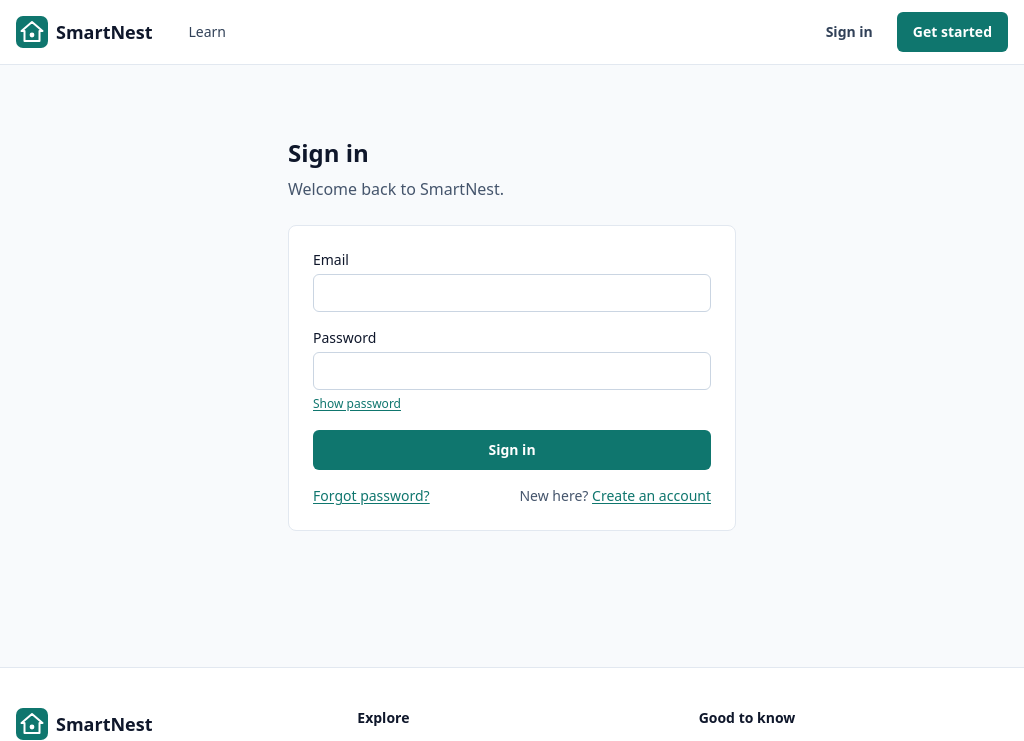
Test: sign in › shows a clear error for wrong credentials and does not store a session
Type "asha@example.com" into the field labelled "Email" at [512, 293], box [313,274,711,312]
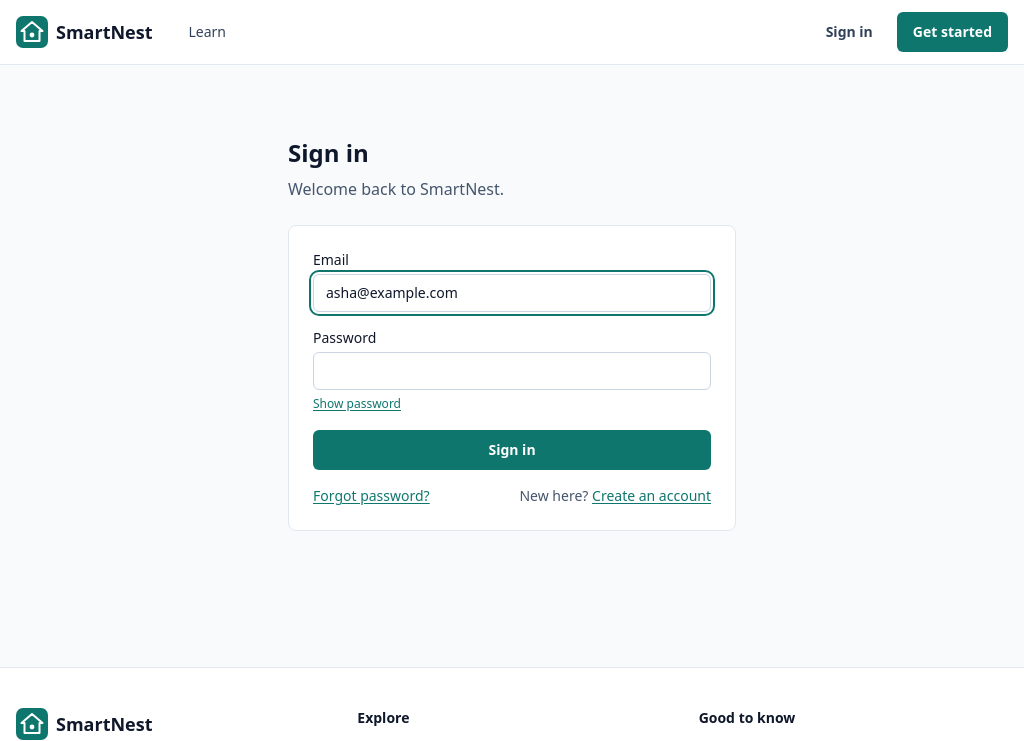
Type "nope" into the password field labelled "Password" at [512, 371], box [313,352,711,390]
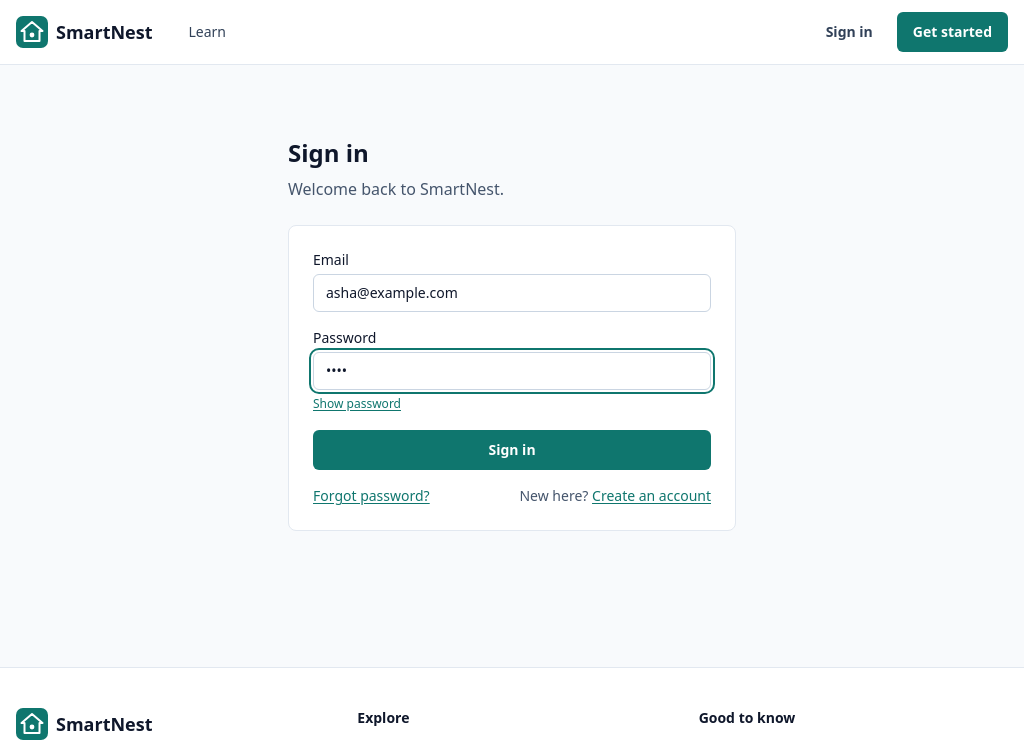
Click the button "Sign in" at [512, 450], box [313,430,711,470]
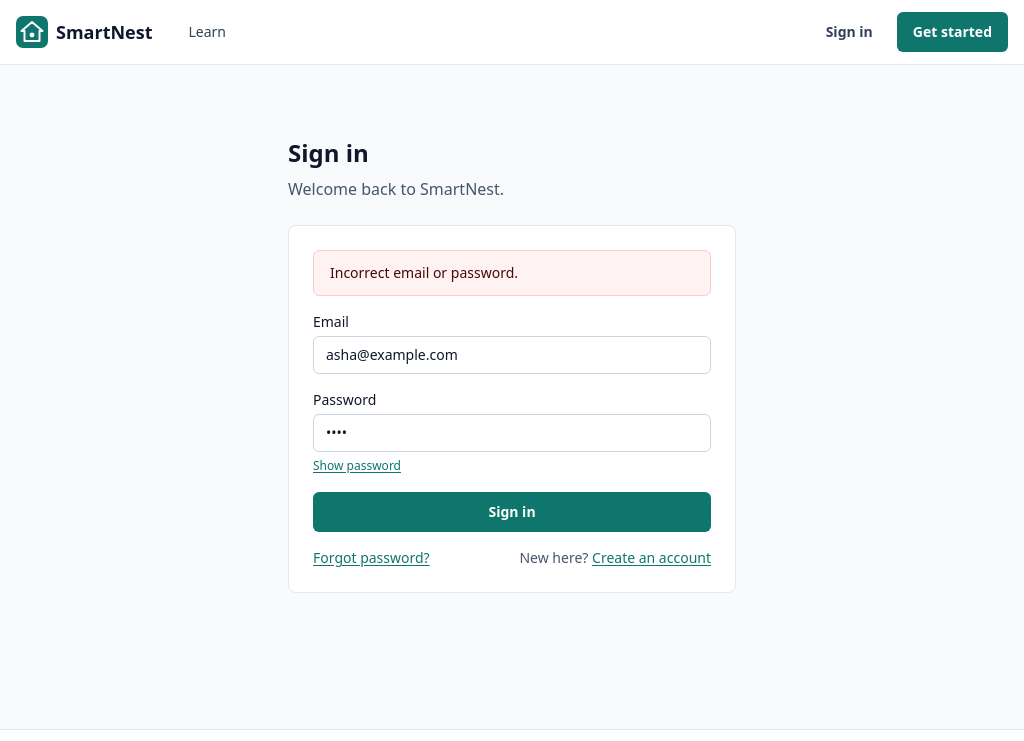
Expected: the message reads "Incorrect email or password.", [330,263,518,282]
